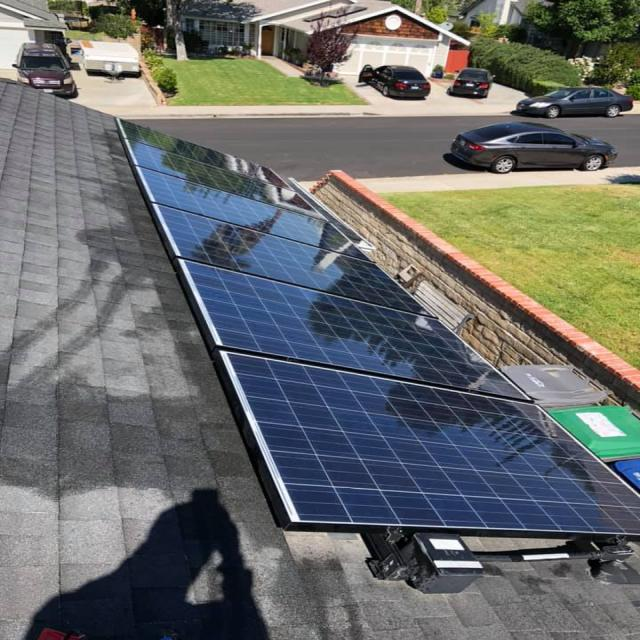clean-solar-panel: (118, 120, 638, 540)
